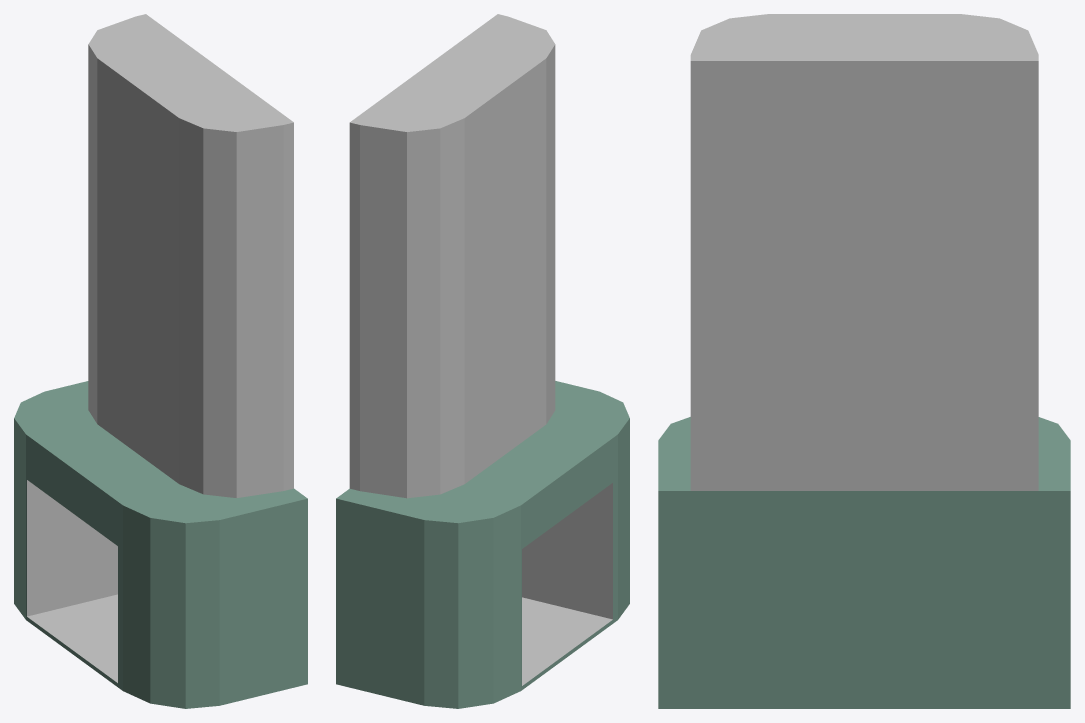
Rendered from Wood burning stove.fbx.
3 renders of one model, left to right at view 1: azimuth 30°, elevation 25°; view 2: azimuth 150°, elevation 25°; view 3: azimuth 270°, elevation 25°, orthographic. The views are drawn at different scales.
Parts seen in each view (by area): view 1: Wood burning stove; view 2: Wood burning stove; view 3: Wood burning stove.
Boxes of the visible parts, left/top/right/bottom form: Wood burning stove: left=14, top=14, right=307, bottom=708; Wood burning stove: left=336, top=14, right=629, bottom=708; Wood burning stove: left=658, top=14, right=1070, bottom=708.
Size of the model in its own units: 0.8 by 2.9 by 1.67.
